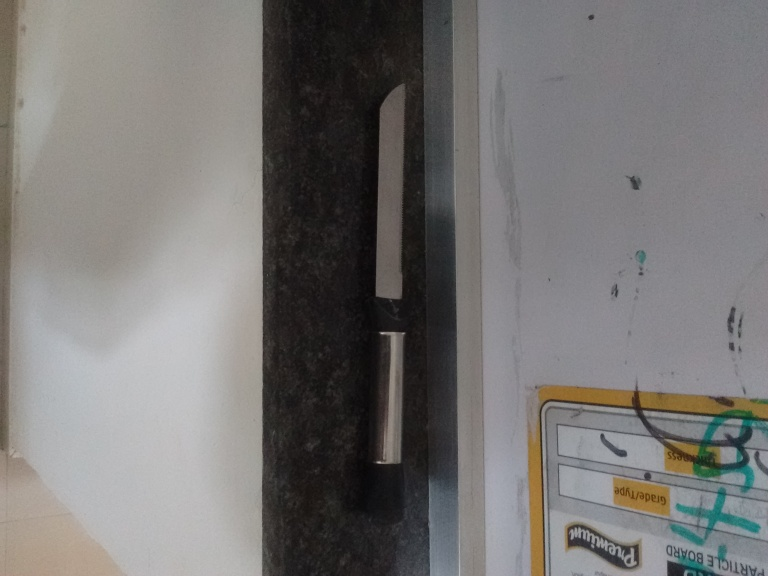knife: (362, 81, 410, 525)
